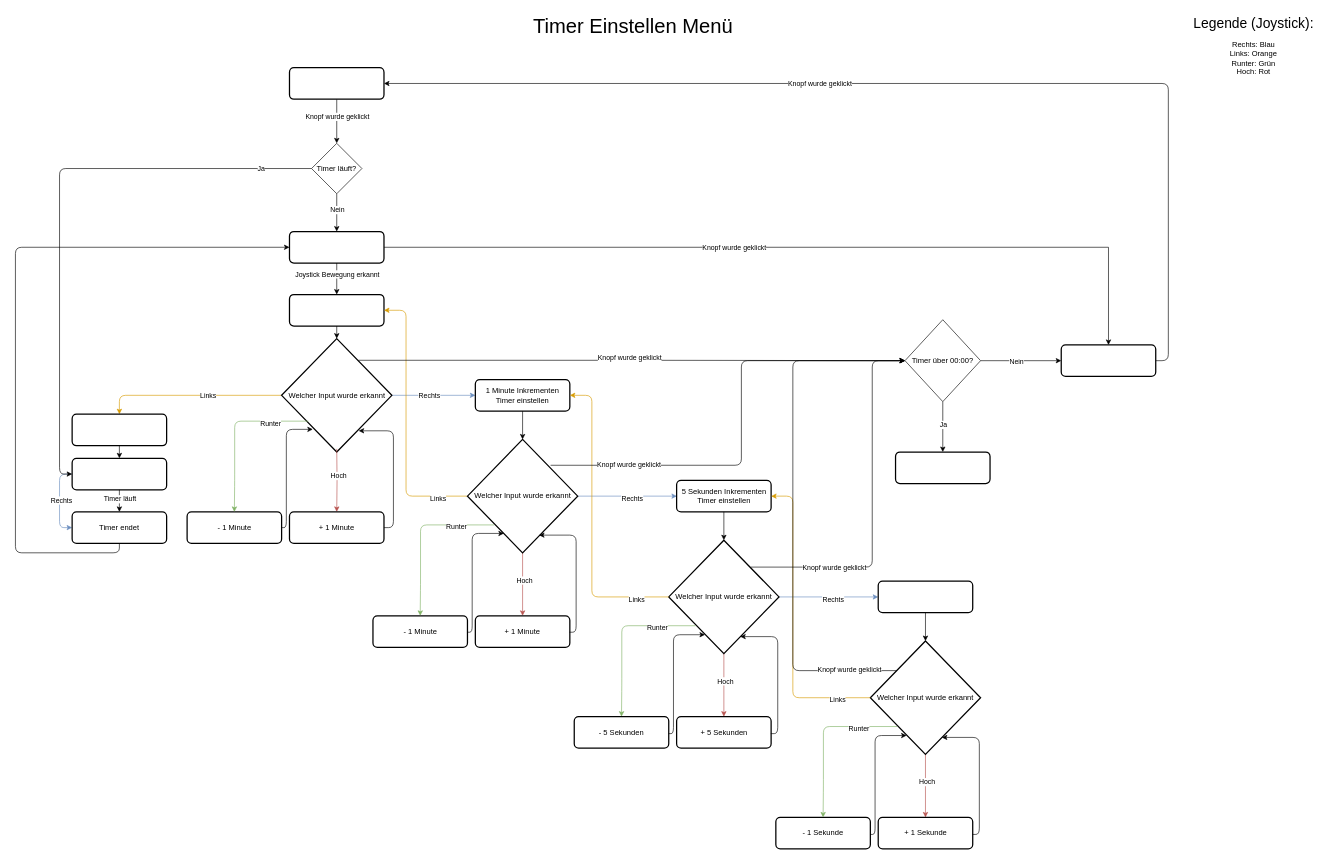
The diagram is 1331 pixels wide and 860 high, and some of its shapes have lost their labels. The centre of each missing label's shape, as x and y in pixels:
"1 Sekunde Inkrementen Timer einstellen" goes at point (925, 596).
"5 Minuten Inkrementen Timer einstellen" goes at point (336, 310).
"Datum & Uhrzeit anzeigen" goes at point (1108, 360).
"Laufender Timer anzeigen" goes at point (119, 473).
"Luftqualität Anzeigen" goes at point (336, 83).
"Nichts unternehmen" goes at point (942, 467).
"Starte Timer" goes at point (119, 429).
"Timer einstellen anzeigen" goes at point (336, 247).
